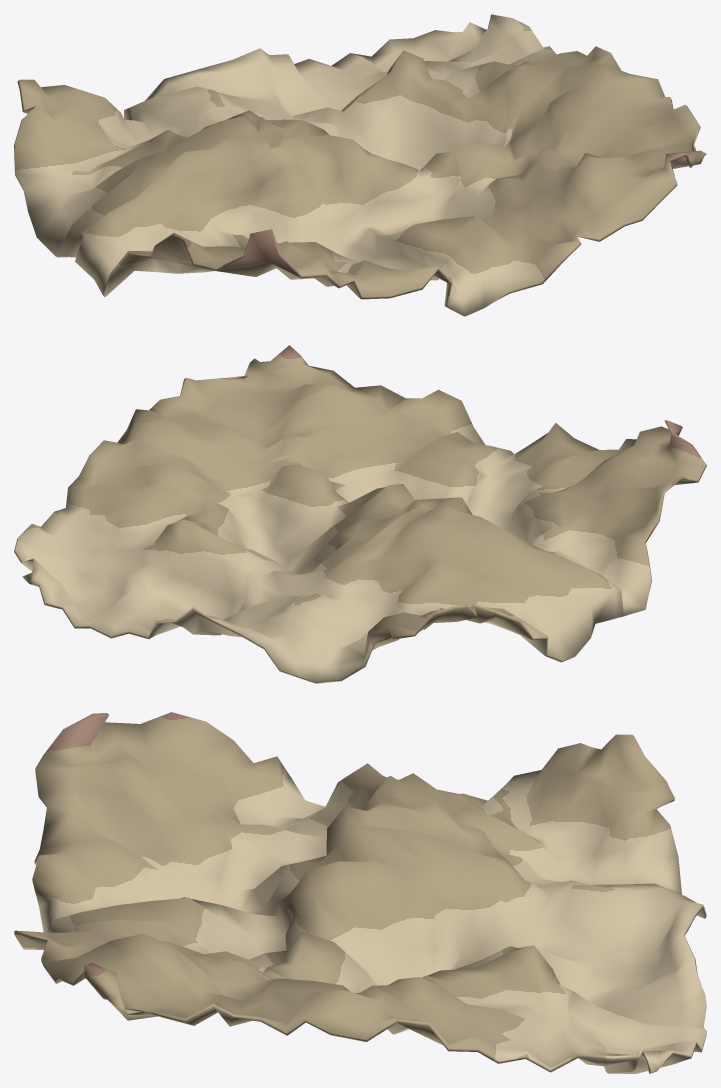
The model's file is pañuelo.002.fbx.
The picture shows the model from 3 angles, top to bottom: view 1: azimuth 30°, elevation 25°; view 2: azimuth 150°, elevation 25°; view 3: azimuth 270°, elevation 25°; orthographic projection. The views are drawn at different scales.
Visible parts, largest first — view 1: pañuelo.002; view 2: pañuelo.002; view 3: pañuelo.002.
Boxes of the visible parts, box(x1,y1,x2,y2) form: pañuelo.002: box(14, 14, 706, 316); pañuelo.002: box(14, 345, 706, 683); pañuelo.002: box(14, 712, 706, 1073).
Bounding box in the file's own units: 200 × 50 × 193.
